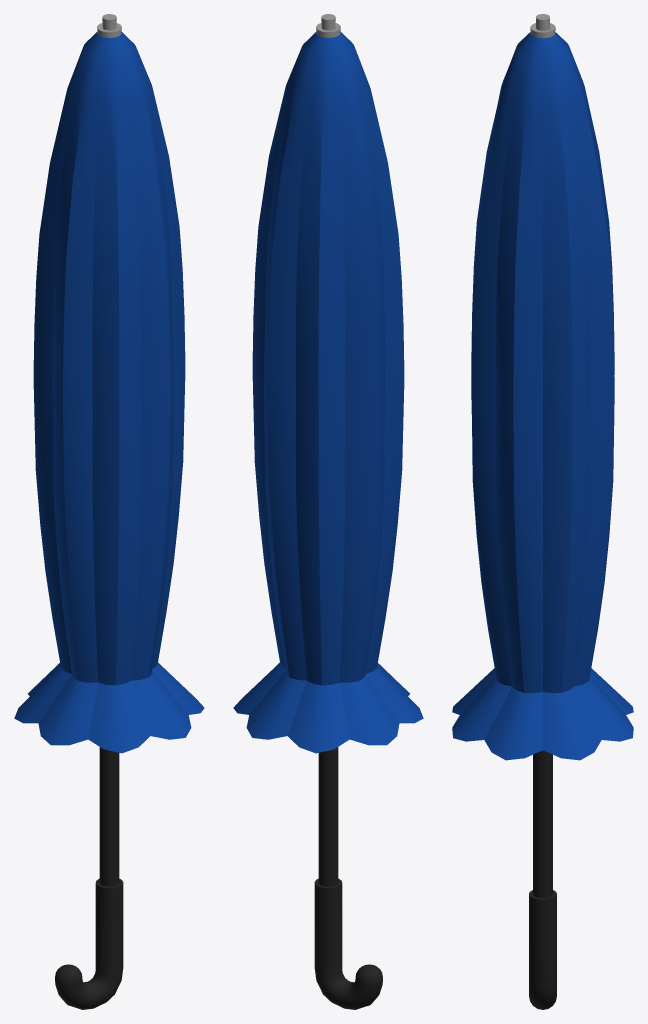
Rendered from closed_umbrella.glb.
The picture shows the model from 3 angles, left to right: view 1: azimuth 30°, elevation 25°; view 2: azimuth 150°, elevation 25°; view 3: azimuth 270°, elevation 25°; orthographic projection.
Visible parts, largest first — view 1: Circle.1780; view 2: Circle.1780; view 3: Circle.1780.
Boxes of the visible parts, x1=… form: Circle.1780: x1=14, y1=14, x2=204, y2=1009; Circle.1780: x1=233, y1=14, x2=423, y2=1009; Circle.1780: x1=452, y1=14, x2=633, y2=1009.
Size of the model in its own units: 0.3899 by 2.37 by 0.3899.
Materials: 1 (1 with a texture image).
